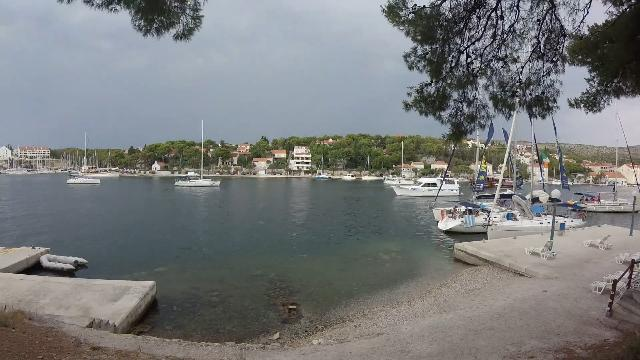Sailboat: (166, 170, 224, 190), (382, 168, 416, 188), (63, 172, 103, 187)
ferry: (388, 168, 466, 200)
